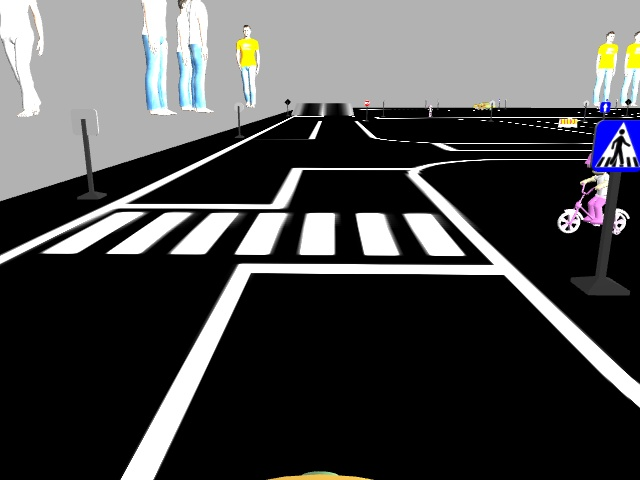Crosswalk: (592, 119, 639, 171)
Pedestrian: (559, 158, 630, 236)
